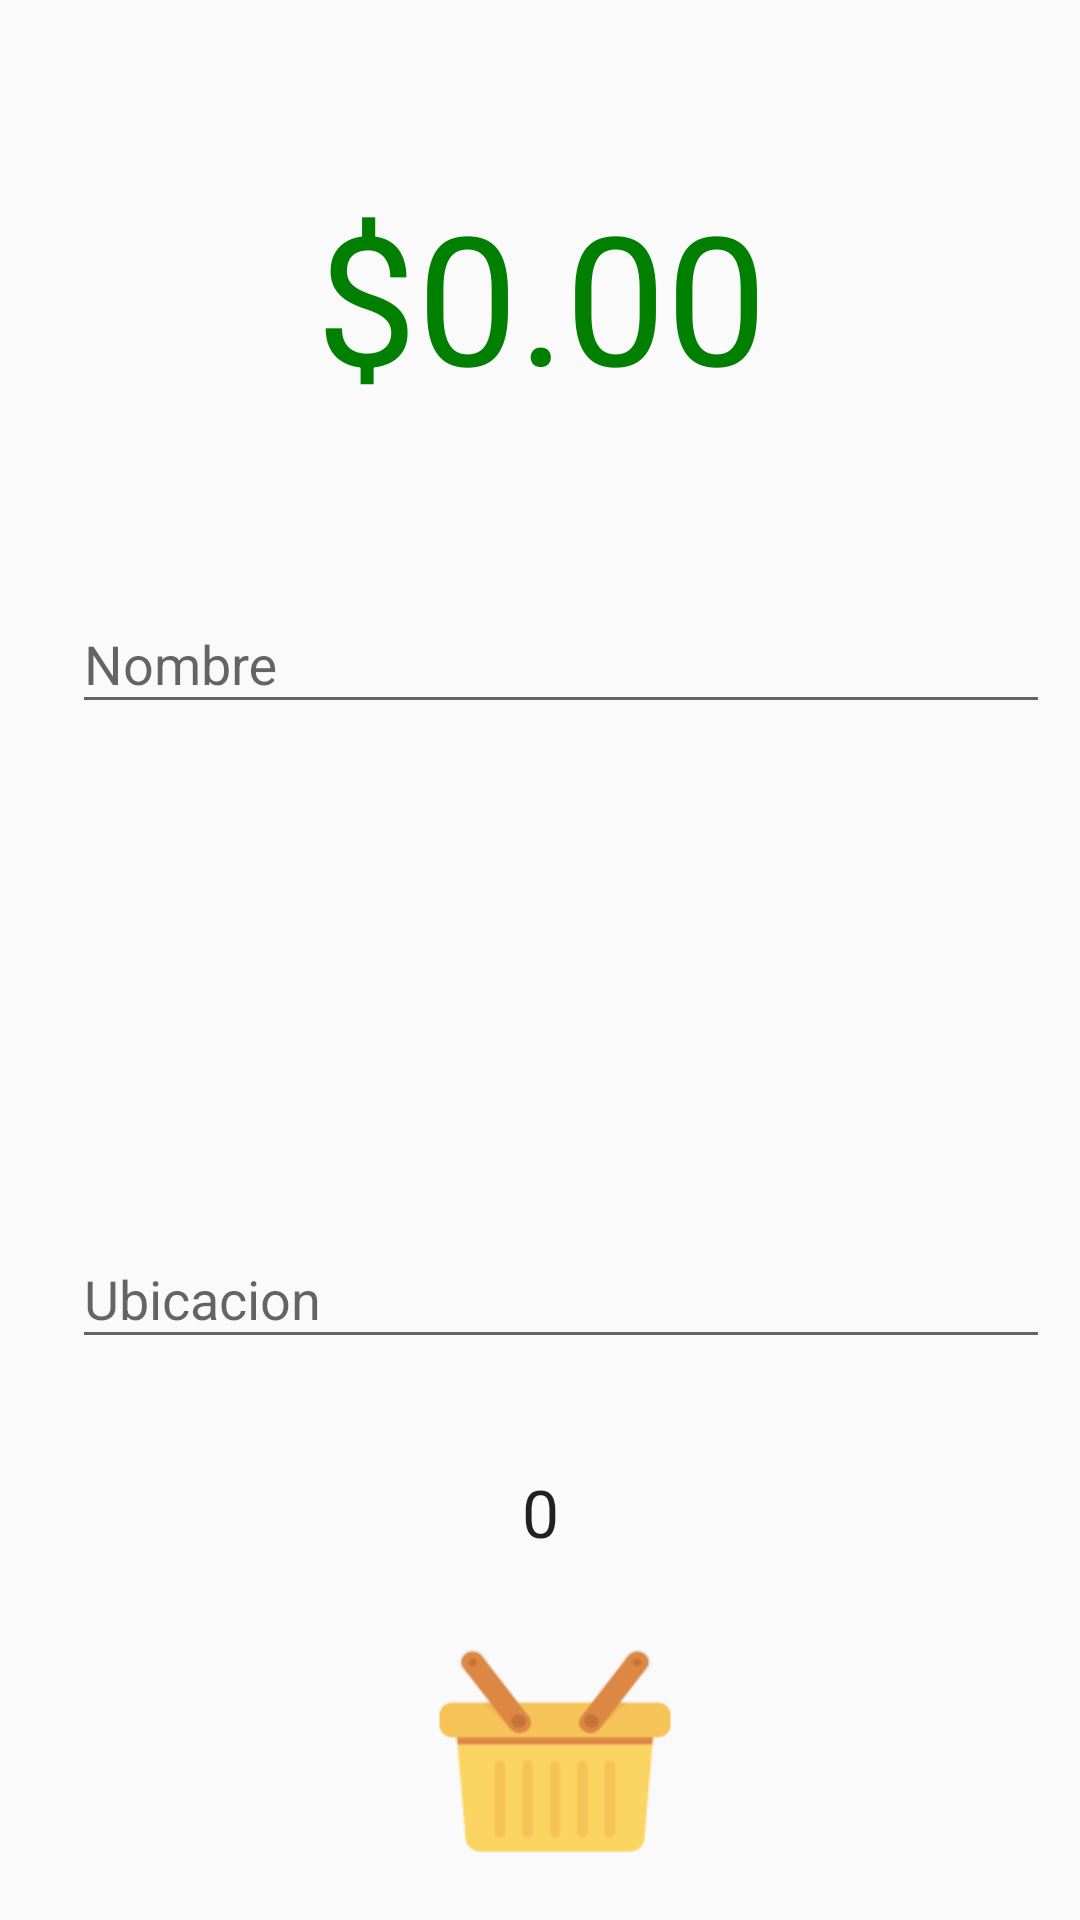

Icons on this 1080px×1920px Android screen, each with the point to tap as (x=x, y=y):
basket: (x=555, y=1751)
